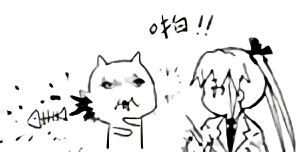dragon: (99, 75, 147, 111)
